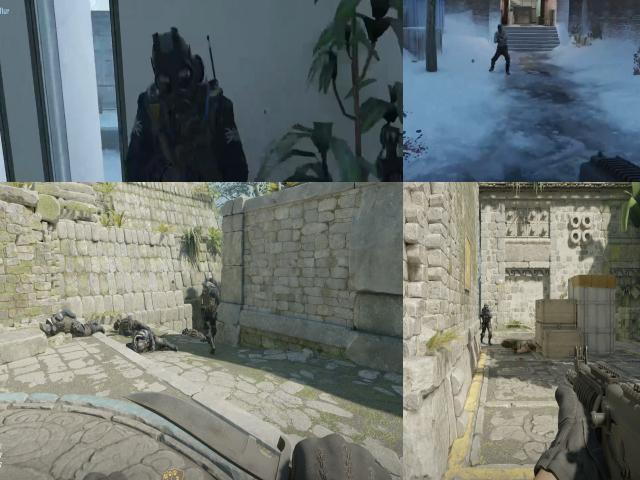CT: (140, 21, 250, 182), (200, 275, 221, 359), (479, 296, 494, 350)
CT-Head: (148, 18, 208, 118), (204, 276, 216, 290), (481, 300, 489, 314)
Dead: (46, 309, 102, 345), (124, 327, 174, 361), (109, 316, 148, 335), (502, 336, 537, 356), (178, 320, 204, 342)
T: (492, 23, 510, 57)
T-Head: (494, 25, 506, 35)
